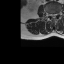CCS_normal: (52, 11, 54, 20)
LFS_normal: (56, 11, 58, 17)
LLS_normal: (54, 11, 56, 19)
RFS_normal: (48, 11, 50, 17)
RLS_normal: (50, 11, 52, 18)
